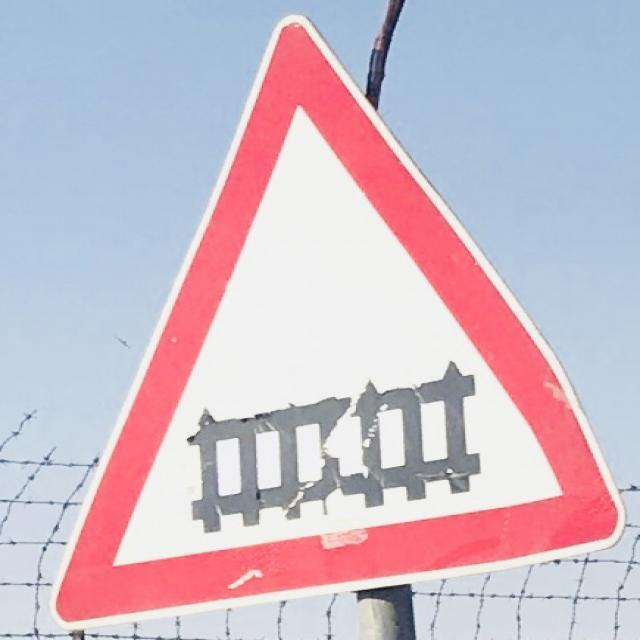guarded level crossing: (55, 20, 618, 622)
